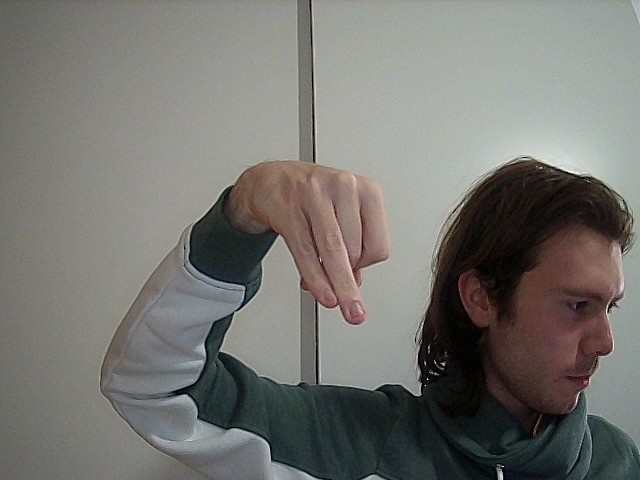n: (238, 140, 394, 337)
